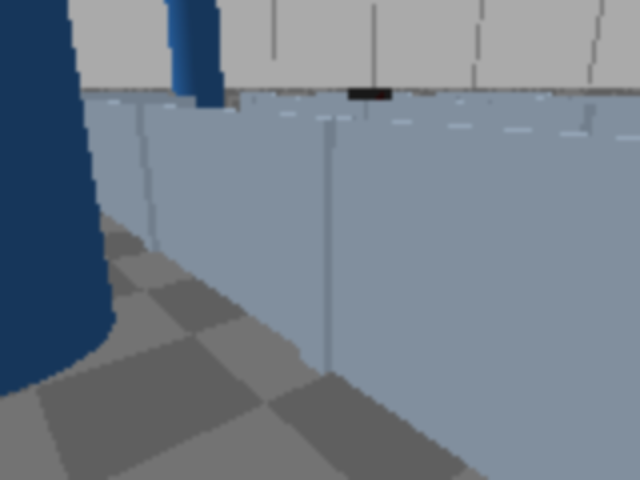person: (0, 0, 111, 393)
